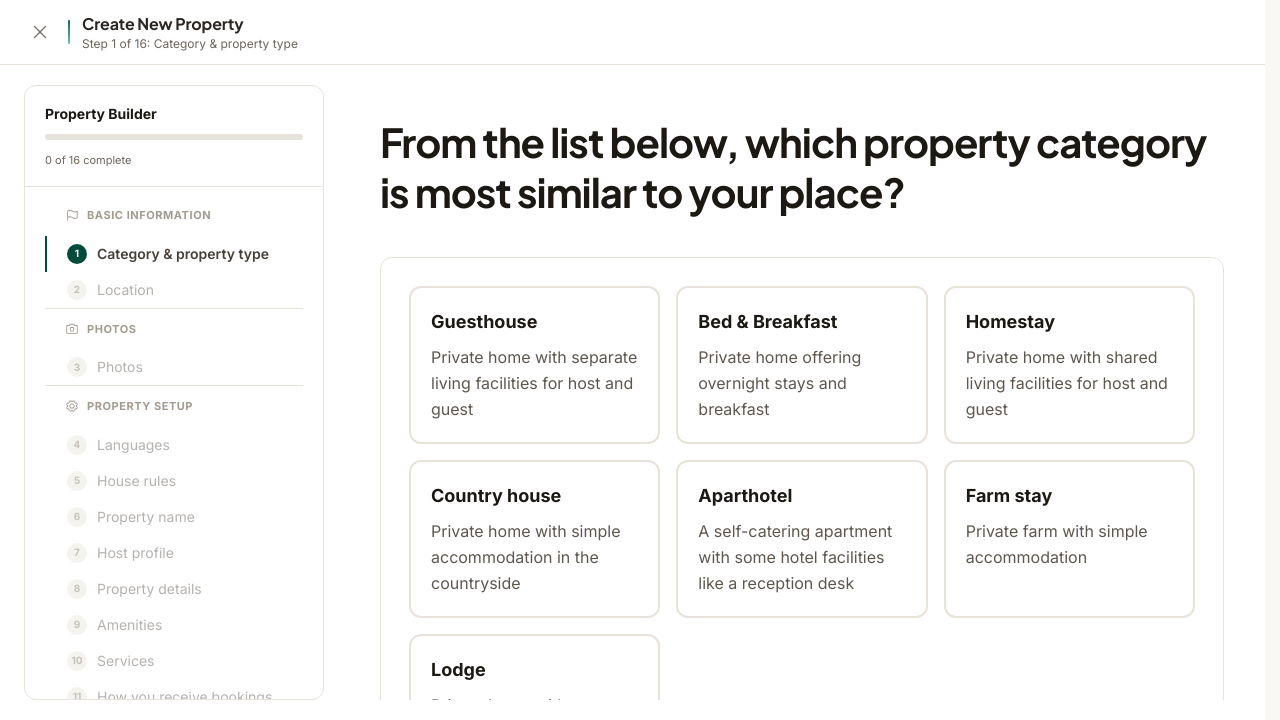
Test: PropertyHomeCategoryPage — which category is most similar › carries the private-room category and booking type forward
The image size is (1280, 720).
What coordinates should you click on to do the following:
click the text "Farm stay"
I would click on:
 (1009, 496)
Its box is [966,485,1052,506].
(page scrolled)
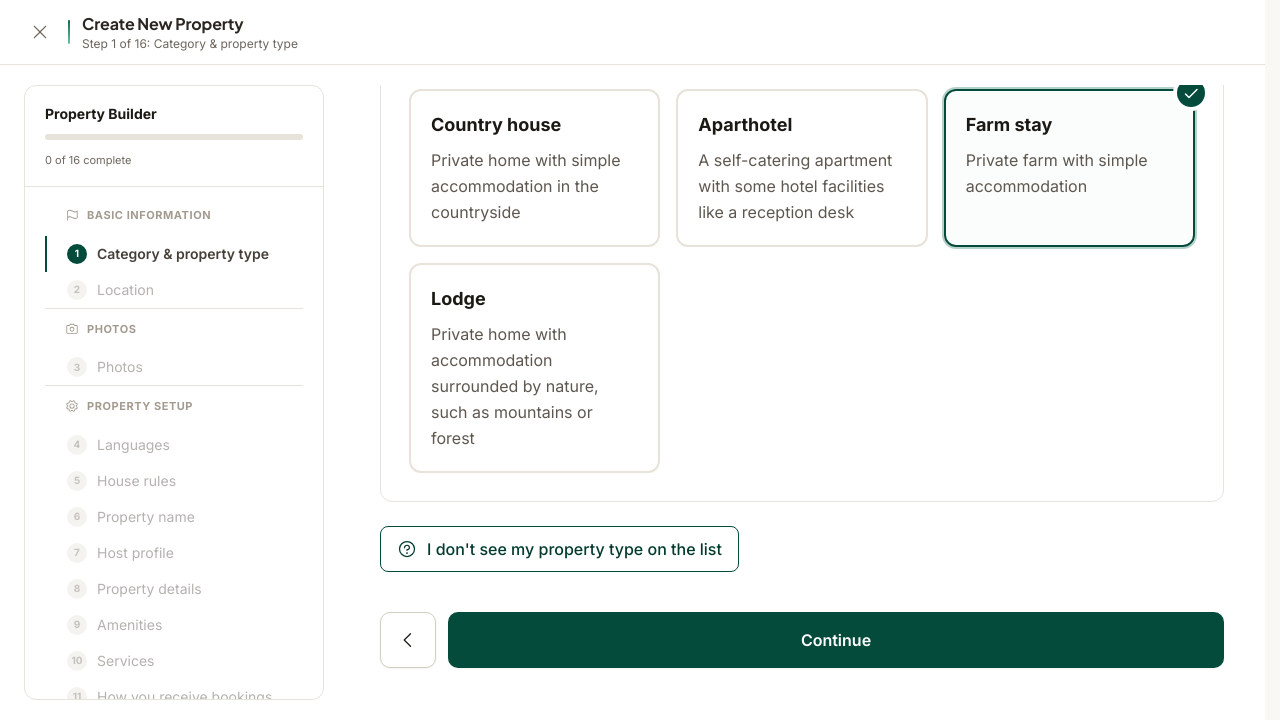
What coordinates should you click on to do the following:
click the button "Continue"
I would click on:
 (836, 640)
Its box is [448,612,1224,668].
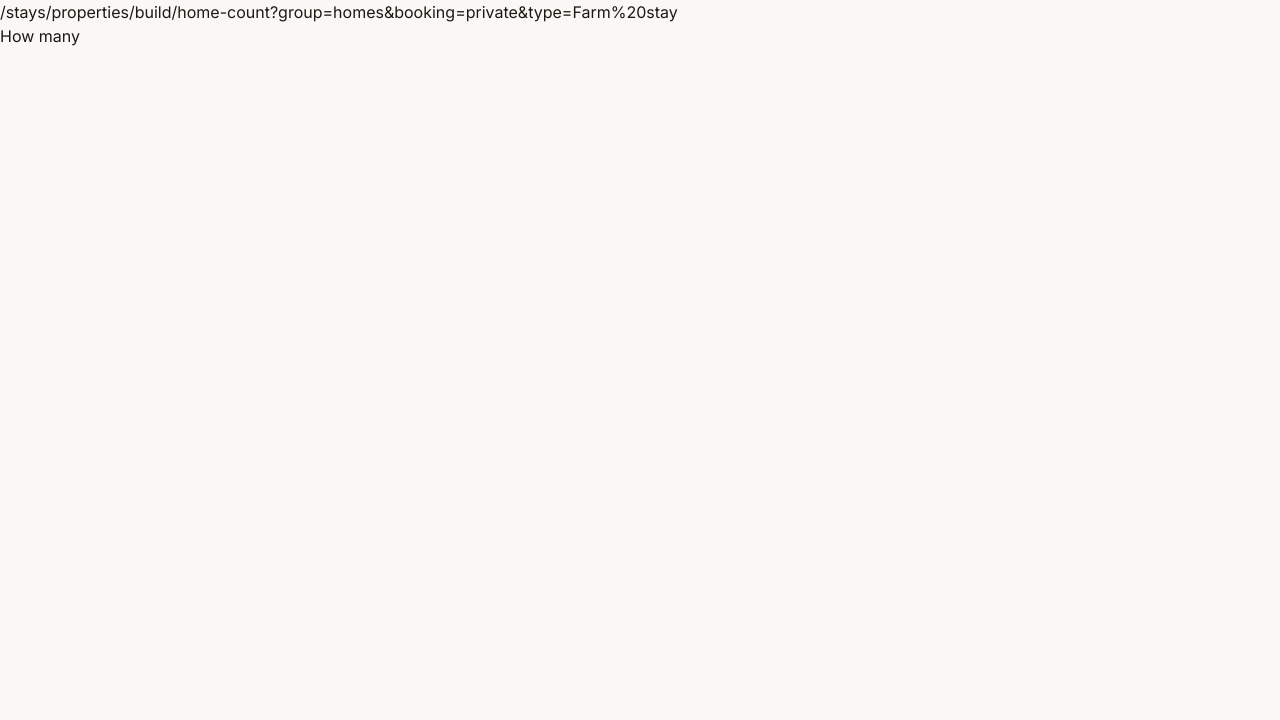
Now the text with test id "location" reads "/stays/properties/build/home-count?group=homes&booking=private&type=Farm%20stay", box [0,2,678,22]
